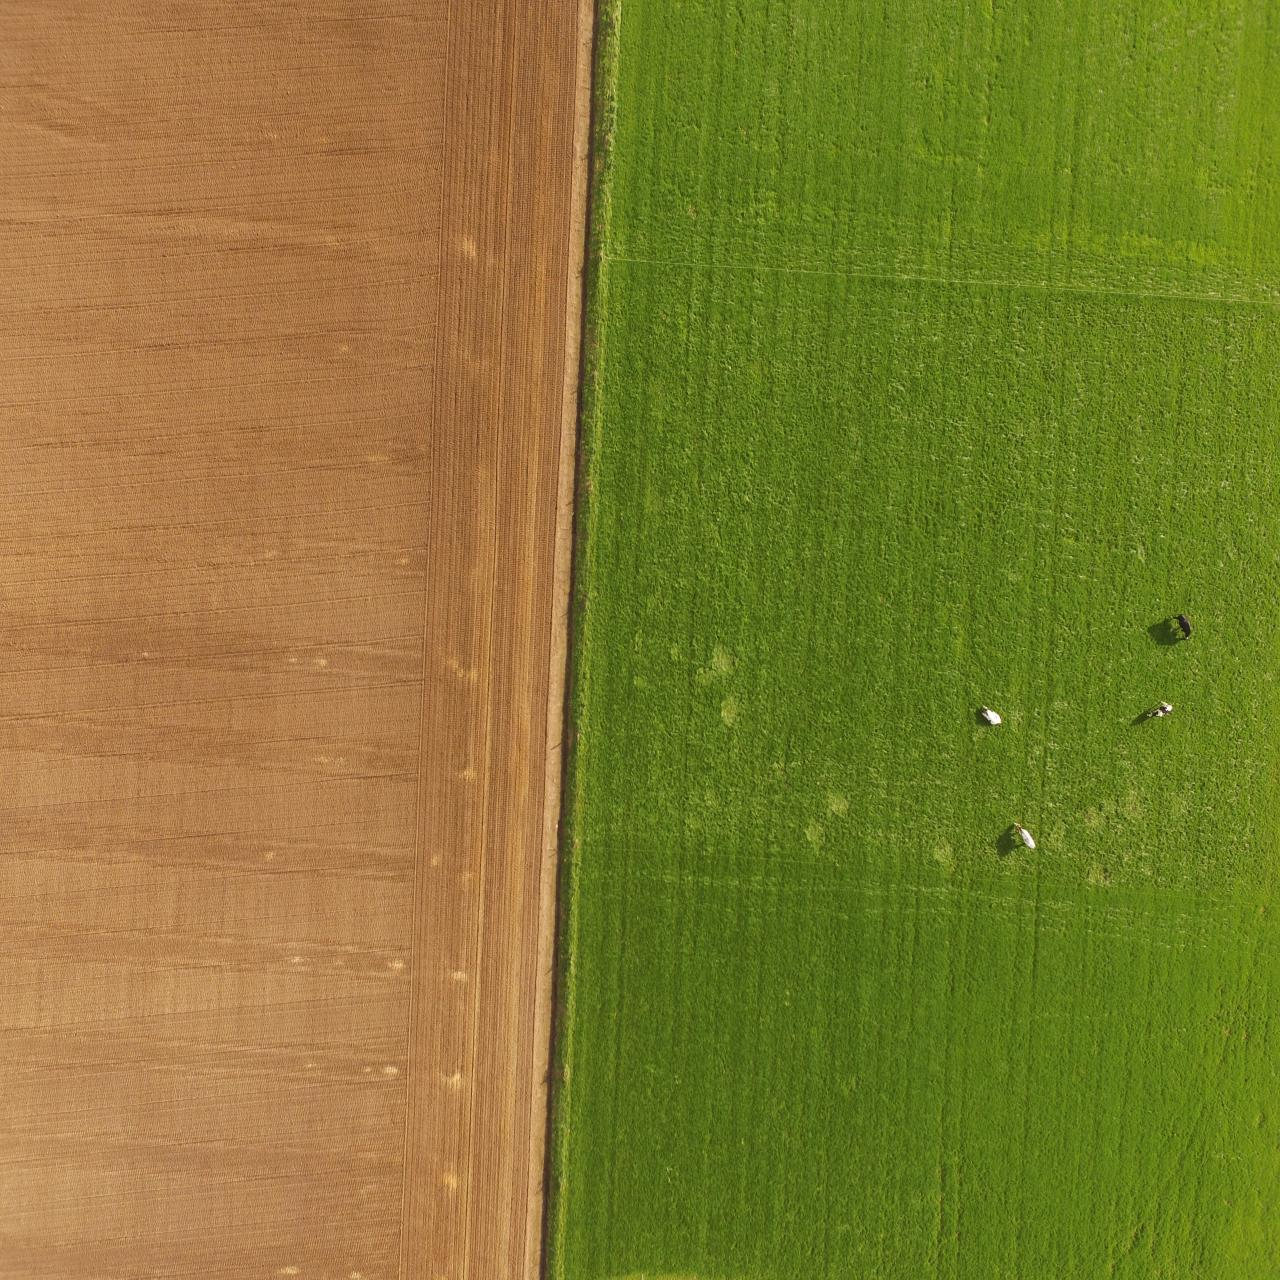cow: (1144, 697, 1179, 722), (1010, 818, 1036, 851), (1171, 612, 1196, 642), (979, 703, 1002, 728)
